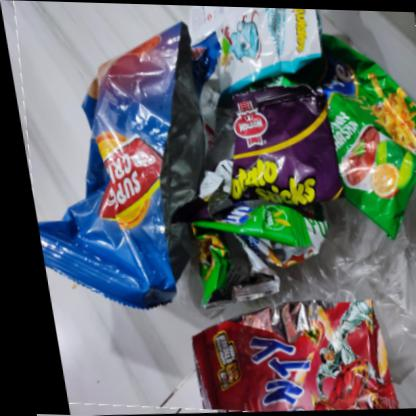Garbage: (1, 1, 416, 416)
